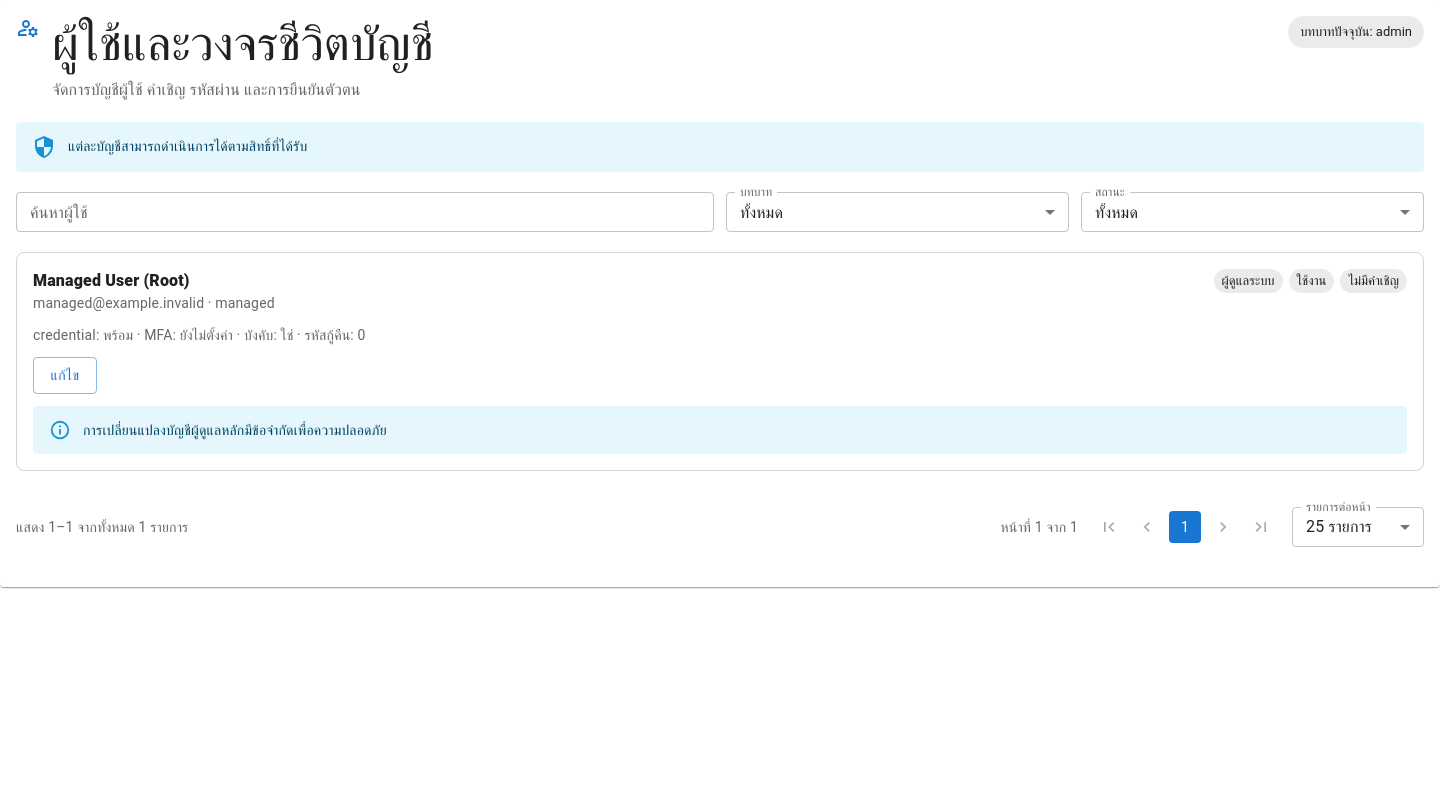
UserManagementCard profile editing › keeps Root role and status transitions disabled
The width and height of the screenshot is (1440, 810).
Click the button "แก้ไข" at x=65, y=375, box top-left (33, 357), bottom-right (97, 394)
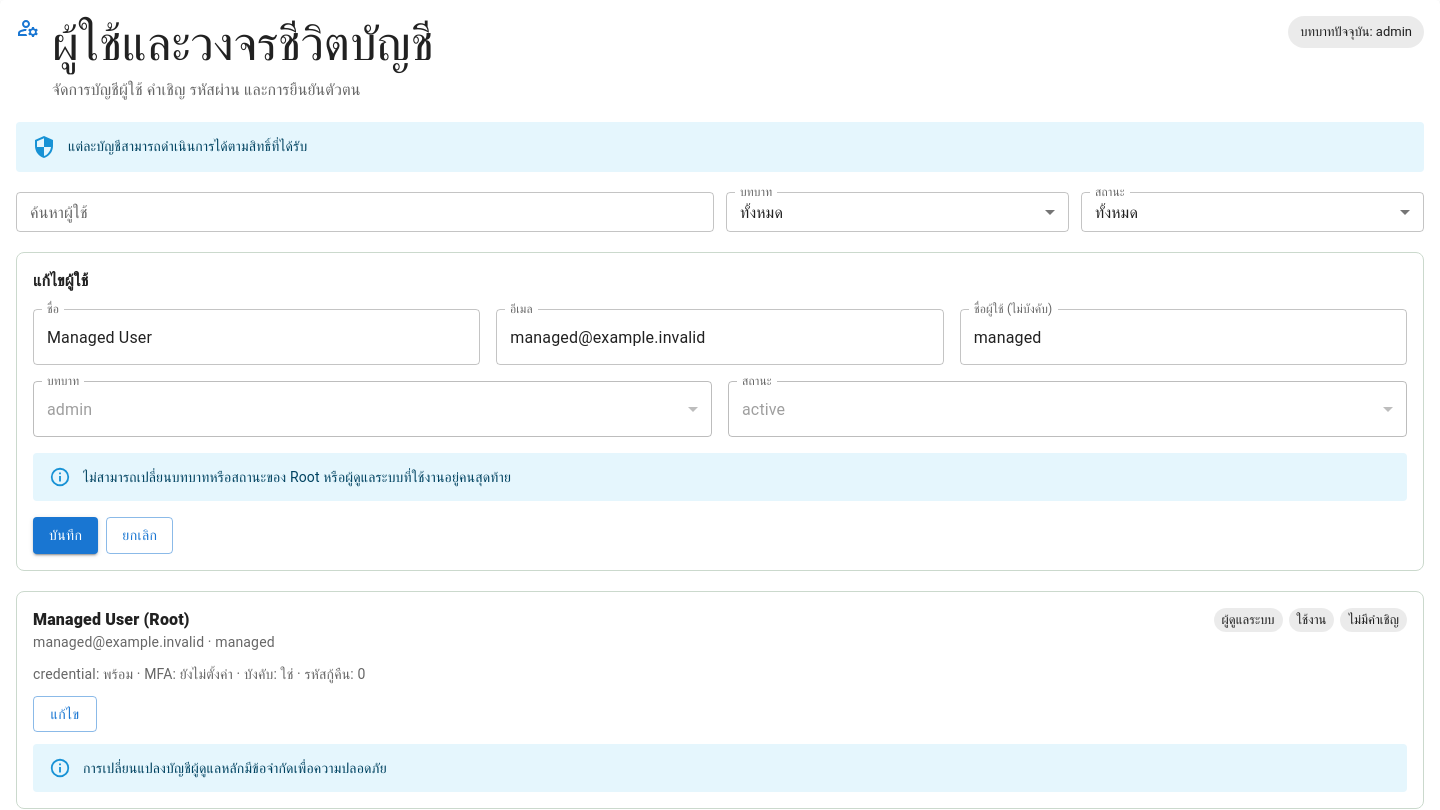
Now the text "ไม่สามารถเปลี่ยนบทบาทหรือสถานะของ Root" is shown, box top-left (83, 469), bottom-right (511, 485)
